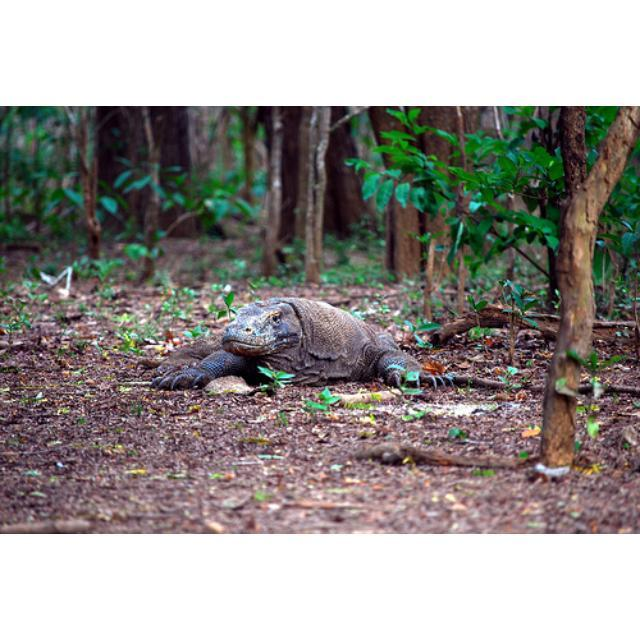KomodoDragon: (155, 294, 453, 393)
